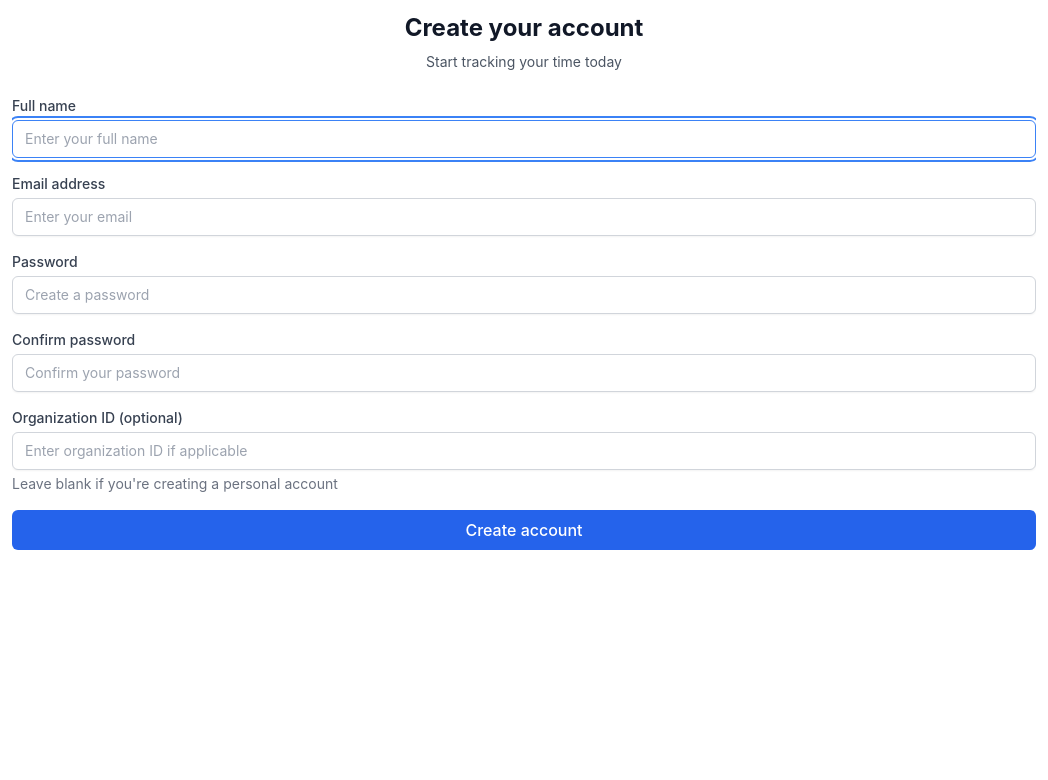
Test case: RegisterForm › validates password complexity
Type "simplepass" into the password field labelled "Password".
click(524, 295); type("simplepass")  # box x1=12 y1=276 x2=1036 y2=314
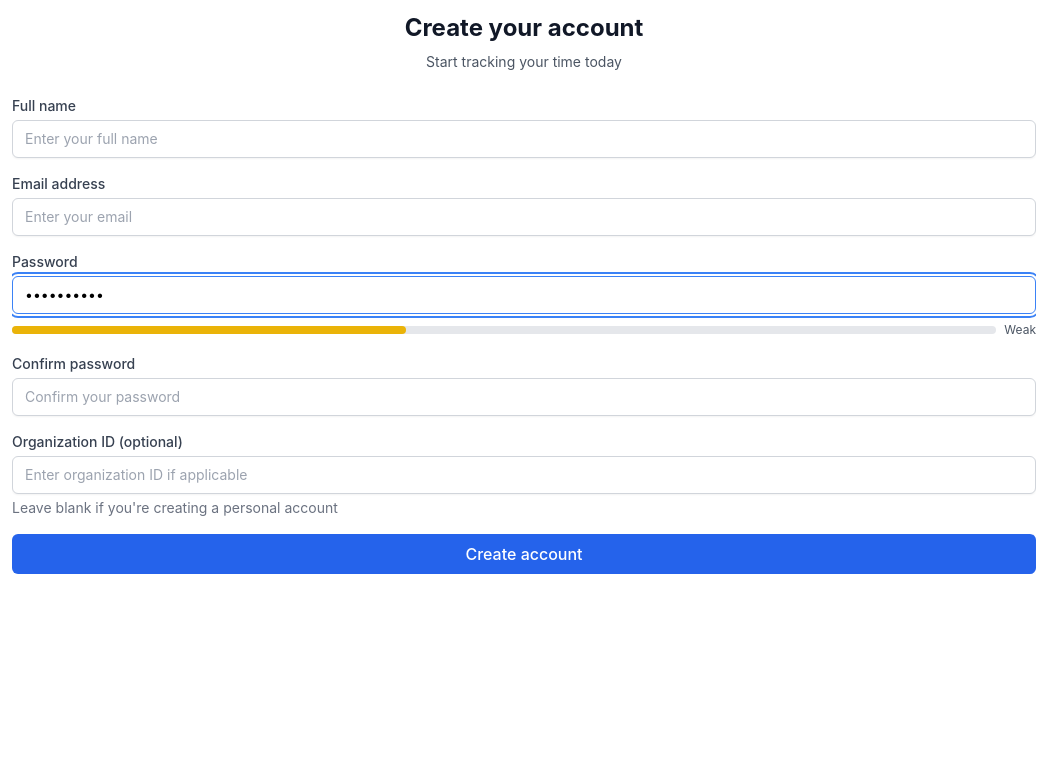
Click the button "Create account".
click(524, 554)  # box x1=12 y1=534 x2=1036 y2=574
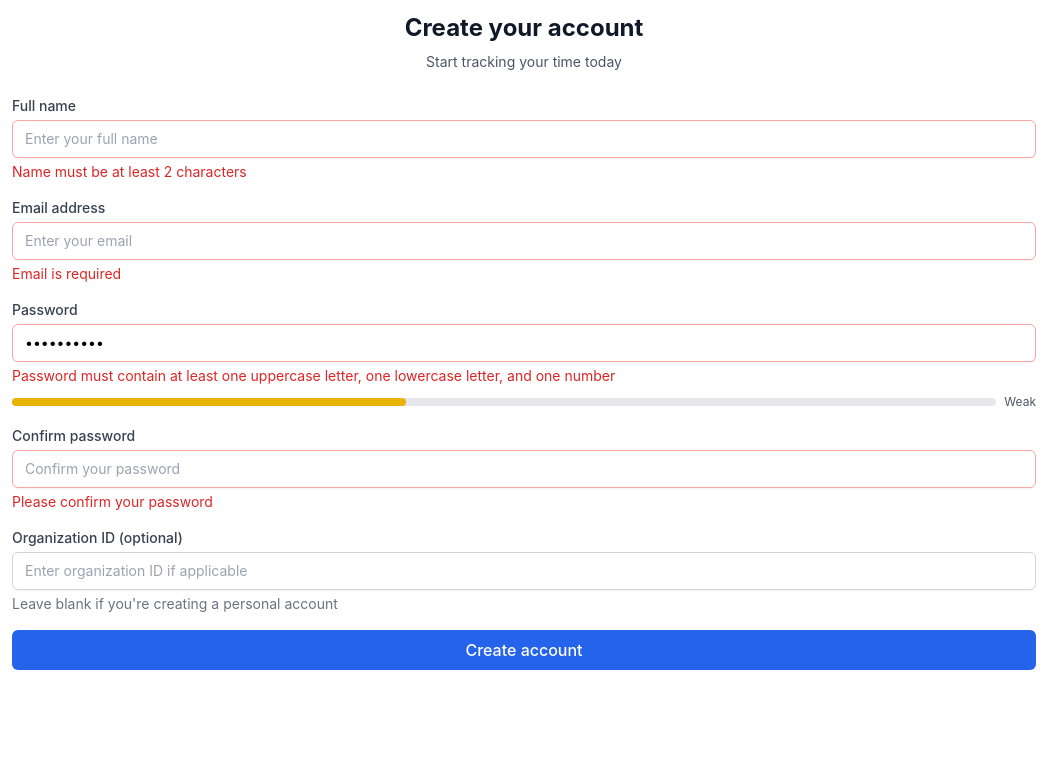
Check: the text "Password must contain at least one uppercase letter" is shown, box x1=12 y1=367 x2=615 y2=384
